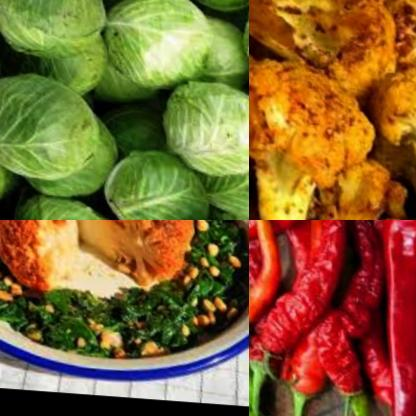beans: (191, 280, 237, 327), (0, 258, 18, 298), (196, 235, 219, 254), (199, 254, 220, 274), (219, 244, 240, 262), (187, 220, 215, 229)
brus capusta: (0, 0, 249, 220)
cayliflower: (249, 0, 416, 220), (0, 220, 199, 303)
hot pepper: (300, 220, 391, 412), (249, 220, 349, 380), (249, 220, 338, 338), (367, 220, 416, 416), (249, 220, 301, 345)
